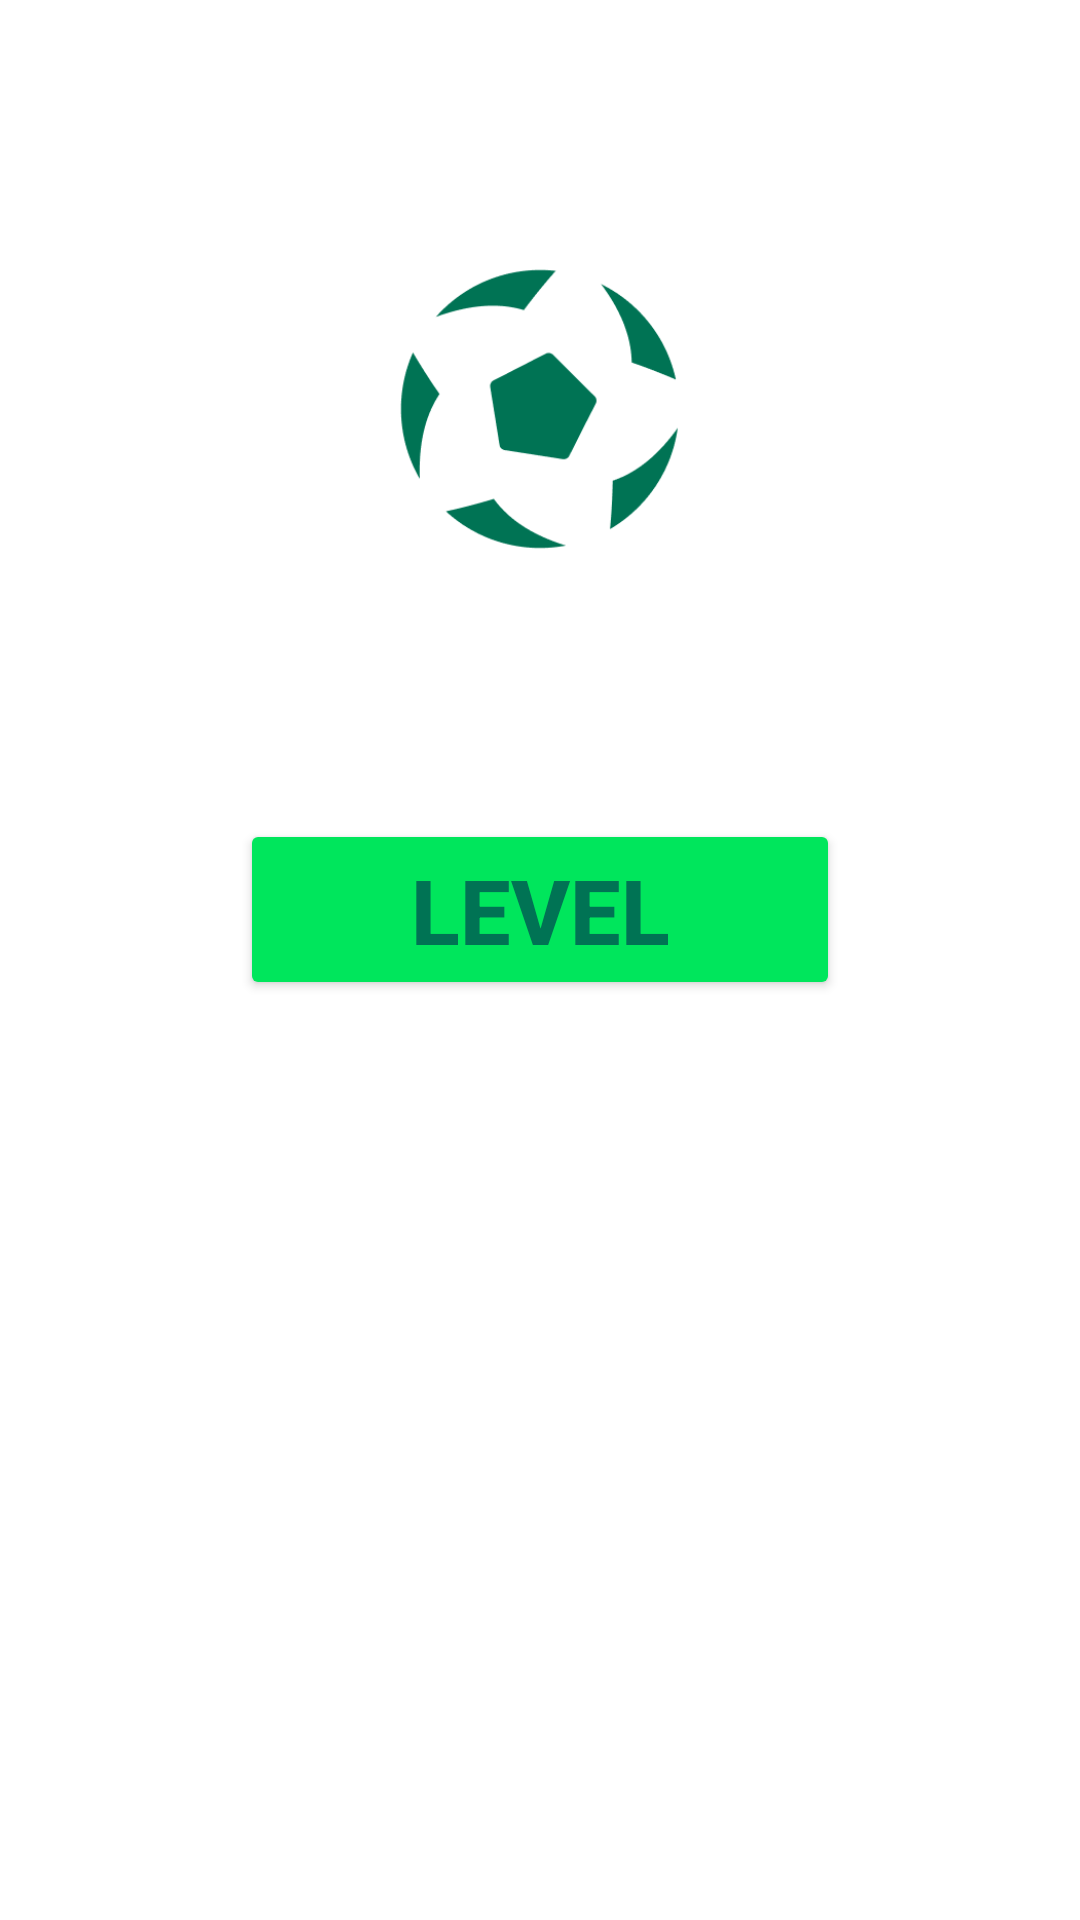

Screen size 1080*1920. Icon name, then its center in pixels as [x,y]:
ball: [539,409]
